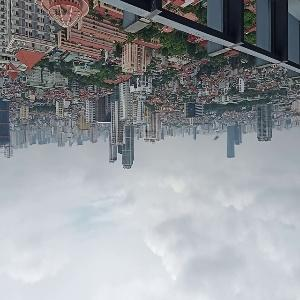drone: (197, 115, 243, 161)
